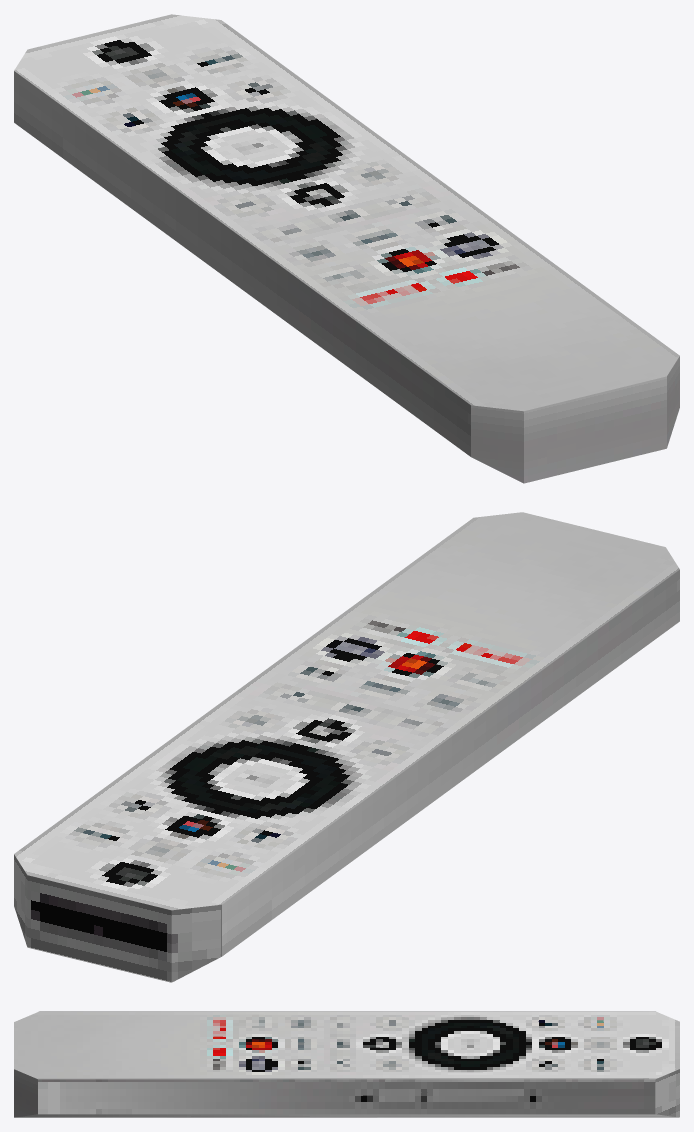
File: remote.glb
3 views of the same model, one above another, from view 1: azimuth 30°, elevation 25°; view 2: azimuth 150°, elevation 25°; view 3: azimuth 270°, elevation 25° (orthographic). The views are drawn at different scales.
Visible parts, largest first — view 1: Cube; view 2: Cube; view 3: Cube.
Part boxes in pixels (x1,y1,x2,y2): Cube: [14, 14, 679, 483]; Cube: [14, 512, 679, 982]; Cube: [14, 1011, 679, 1117].
Bounding box in the file's own units: 0.0847 × 0.0282 × 0.3497.
1 material, 1 textured.
